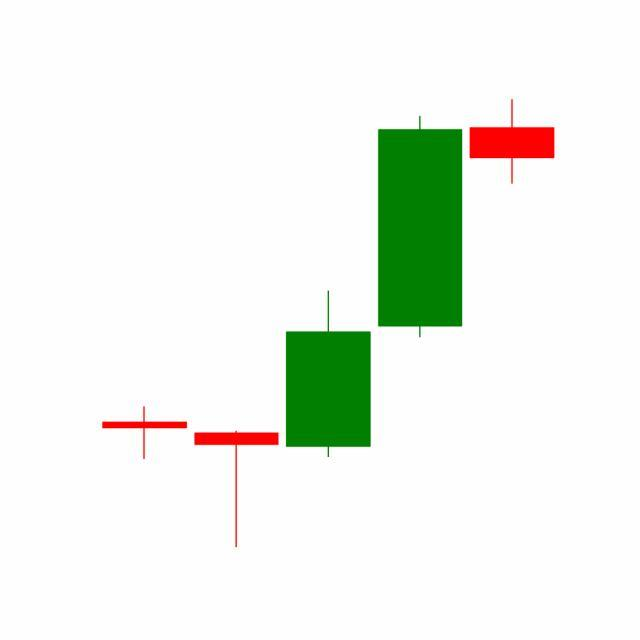Three Outside Up-Down: (190, 111, 467, 548)
